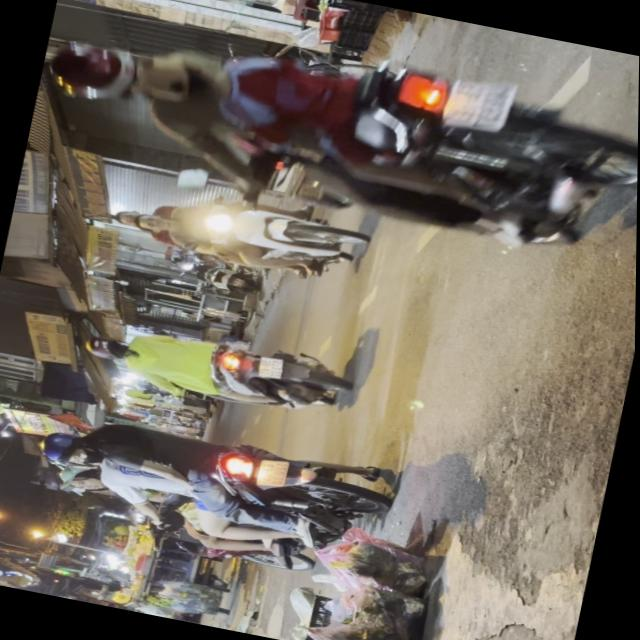helmet: (43, 33, 152, 109), (37, 426, 103, 470), (84, 332, 130, 361)
licenseplate: (24, 0, 640, 278), (17, 396, 401, 590), (78, 310, 354, 426), (104, 176, 372, 290)
motorcyclist: (130, 46, 224, 112), (128, 208, 171, 234), (112, 205, 143, 229)
nohelmet: (441, 73, 514, 134), (254, 456, 288, 488), (257, 355, 283, 379)
